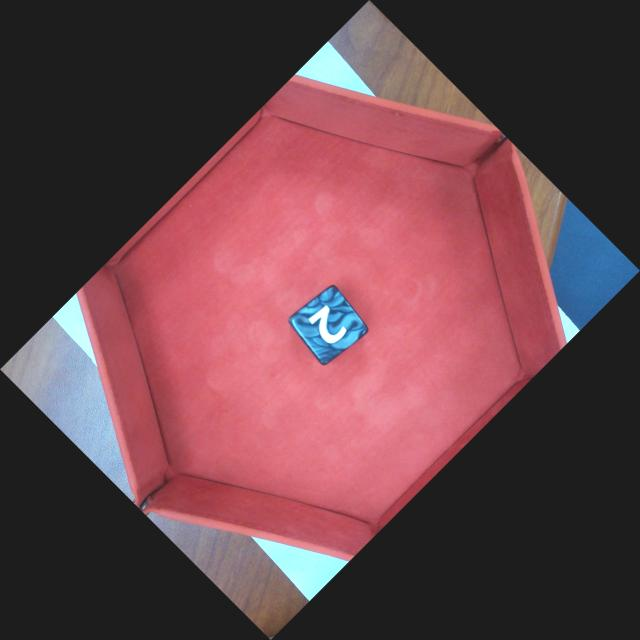dice: (286, 283, 371, 367)
